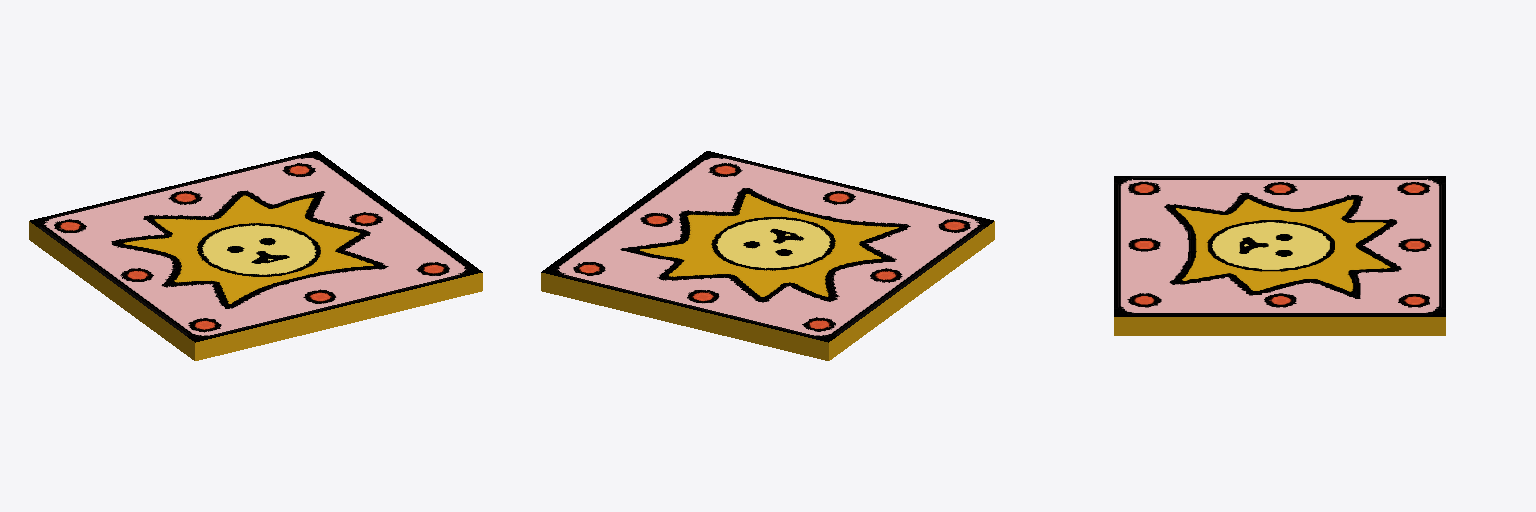
The picture shows the model from 3 angles: view 1: azimuth 30°, elevation 25°; view 2: azimuth 150°, elevation 25°; view 3: azimuth 270°, elevation 25°; orthographic projection.
Parts seen in each view (by area): view 1: Lion; view 2: Lion; view 3: Lion.
Boxes of the visible parts, <box> form: Lion: <box>29,151,482,360</box>; Lion: <box>541,151,994,360</box>; Lion: <box>1114,176,1445,335</box>.
Bounding box in the file's own units: 0.8 × 0.05 × 0.8.
1 materials, 1 textured.